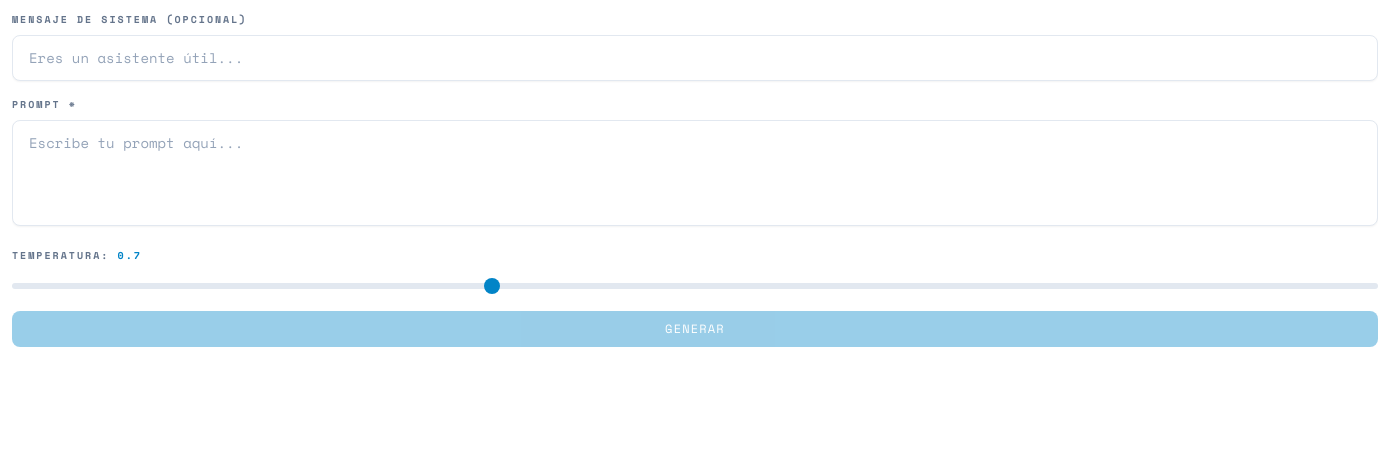
AiGenerator › shows result after successful generation
In the text box with placeholder "Escribe tu prompt aquí...": (695, 173) 12,120 -> 1378,226, type "Hello AI"
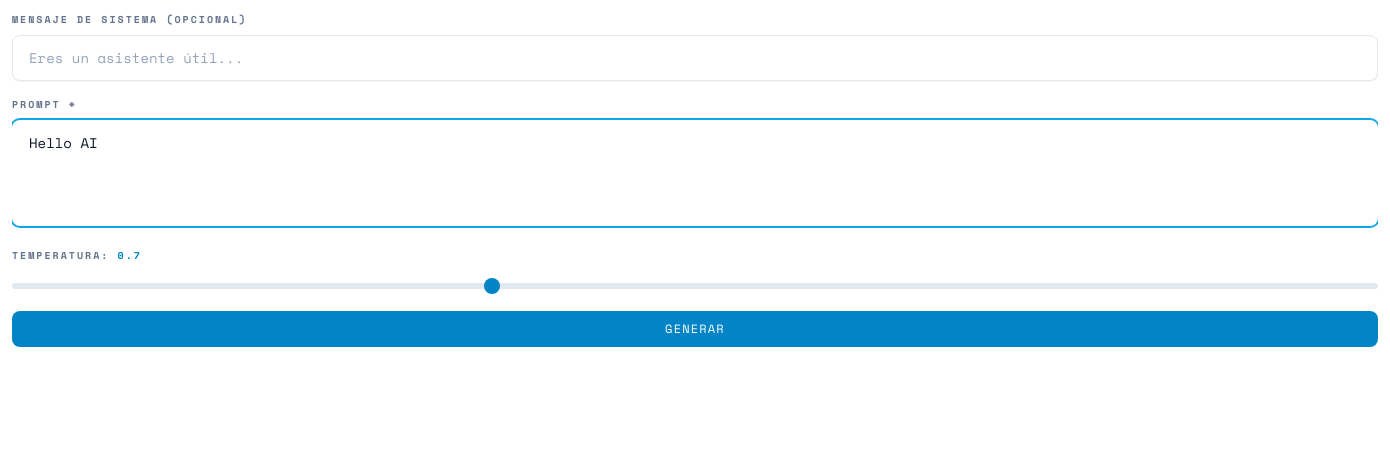
Click the button "Generar": (695, 329) 12,311 -> 1378,347
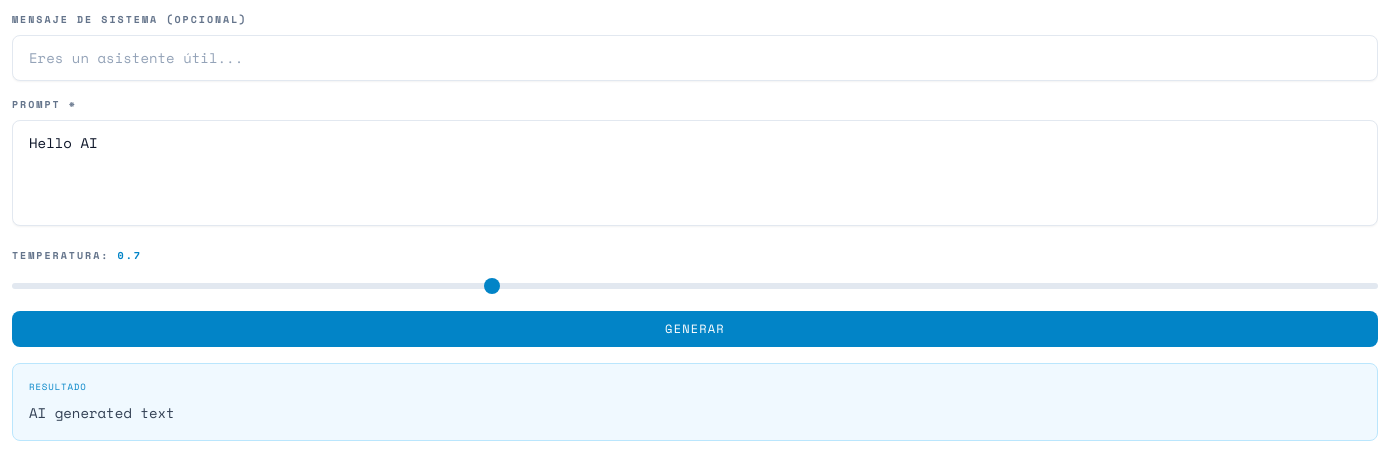
Expected: the text "AI generated text" is shown, 29,402 -> 175,422
